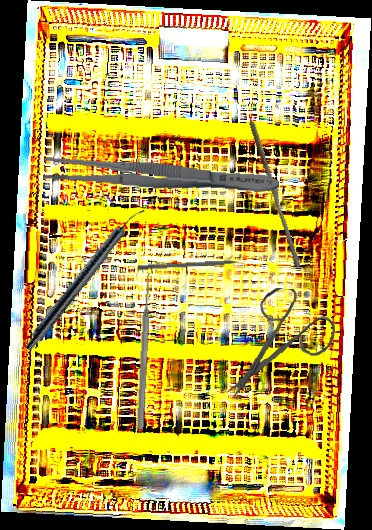Dressing Forceps: (42, 152, 280, 200)
Handpiece: (22, 201, 147, 356)
Iris Scissors: (225, 285, 338, 405)
Pusher: (242, 120, 307, 268), (135, 272, 154, 430), (137, 258, 254, 272)
